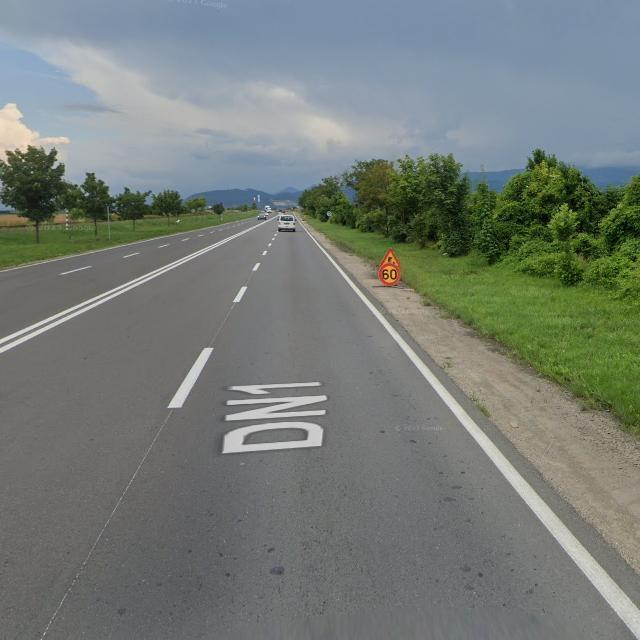forb_speed_over_60: (380, 268, 401, 288)
